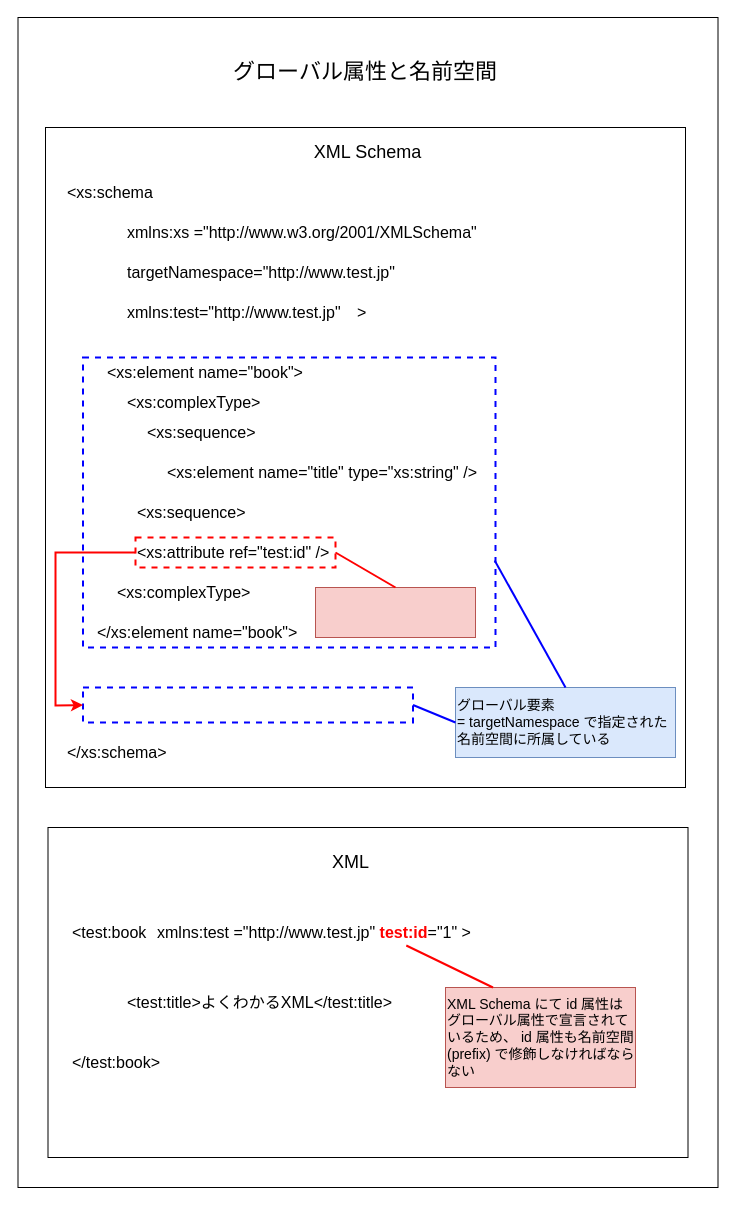
The diagram is 735 pixels wide and 1205 high, and some of its shapes have lost their labels. Here are the shapes that lost their labels. From the top down, the centre of each, then its label:
(395,612): グローバル属性である id 属性を参照している
(248,704): <xs:attribute name="id" type="xs:string" />
